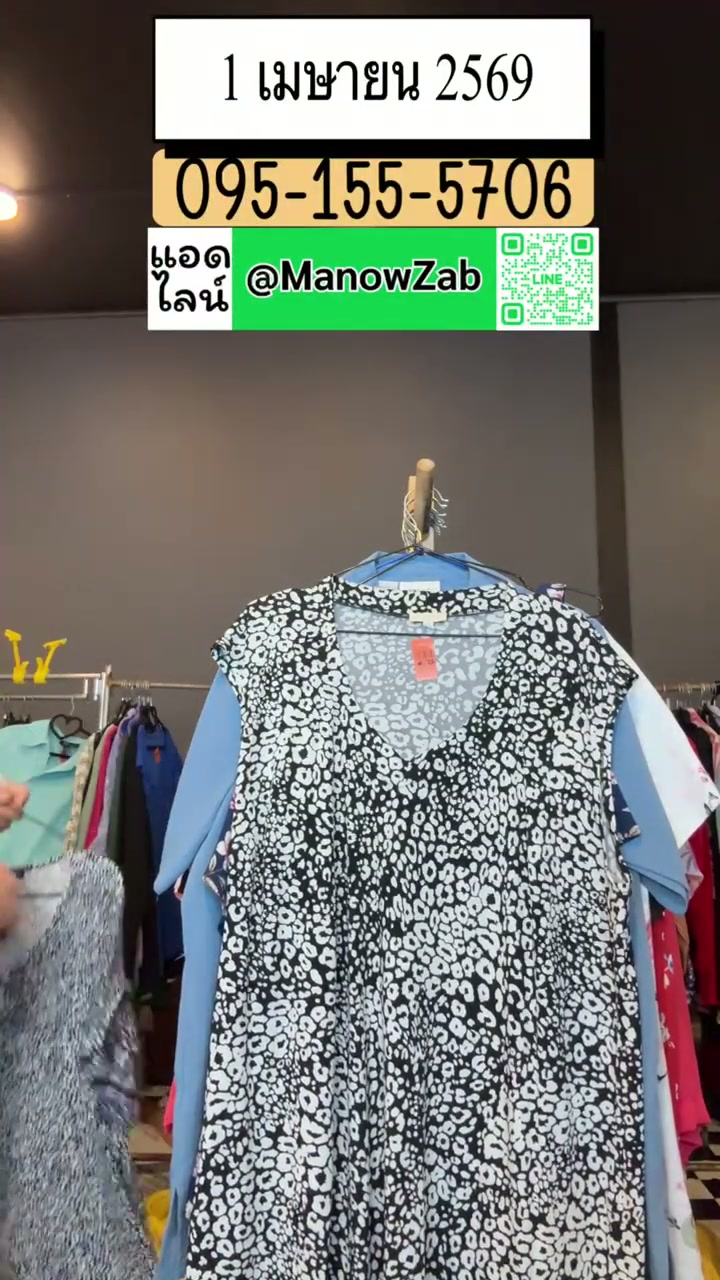display_shirt: (187, 565, 645, 1279)
